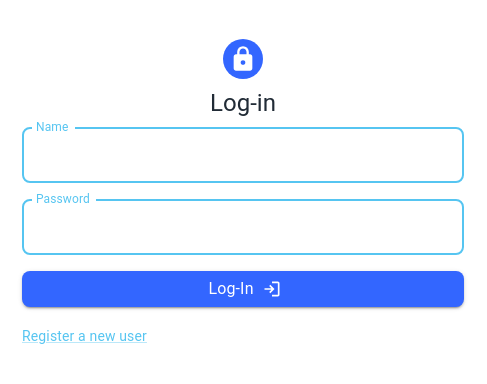
Test: Login Page › should show form validation errors when fields are empty
Click the submit button at (243, 289), box [22,271,464,307]
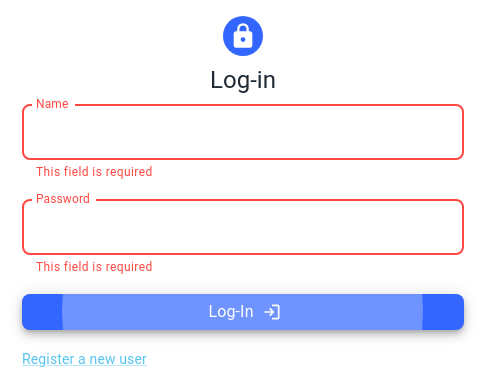
Expected: the text "This field is required" below "Name" is shown, [36,165,153,179]
